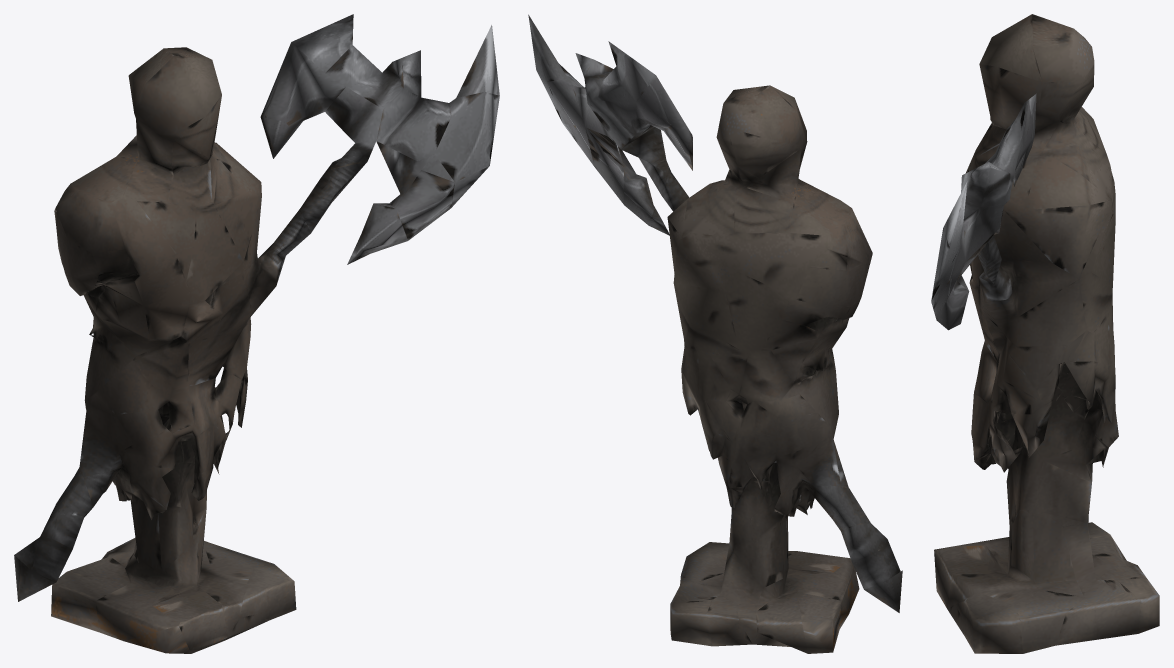
The model's file is weapon_axe_in_dummy.glb.
The picture shows the model from 3 angles, left to right: view 1: azimuth 30°, elevation 25°; view 2: azimuth 150°, elevation 25°; view 3: azimuth 270°, elevation 25°; orthographic projection. The views are drawn at different scales.
Bounding box in the file's own units: 1.6 × 1.98 × 0.6882.
Materials: 1 (1 with a texture image).
